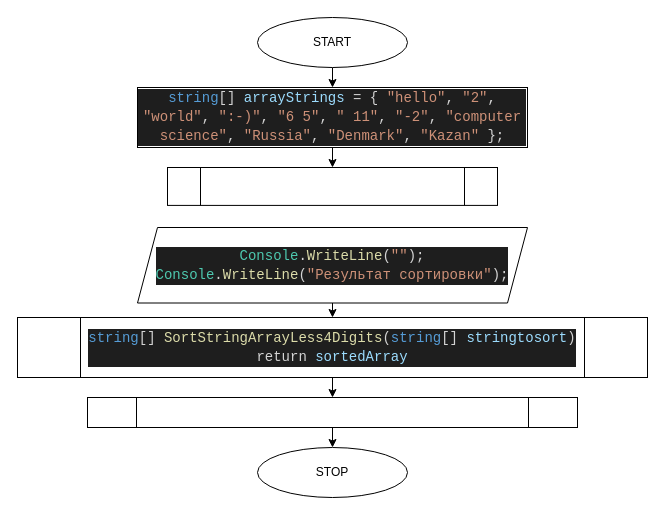
Image size: 665x515. Some labels were removed from this diagram. Here are the shapes that lost their labels. From the top down, the box of each, then its label:
(166, 166, 498, 205): PrintStringArray ( arrayStrings );
(86, 396, 578, 428): PrintStringArray ( sortedArray );
